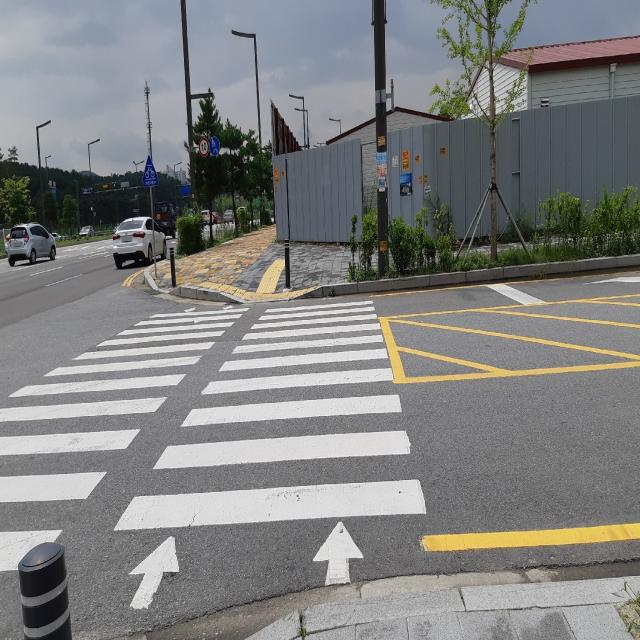횡단보도: (0, 303, 426, 612)
